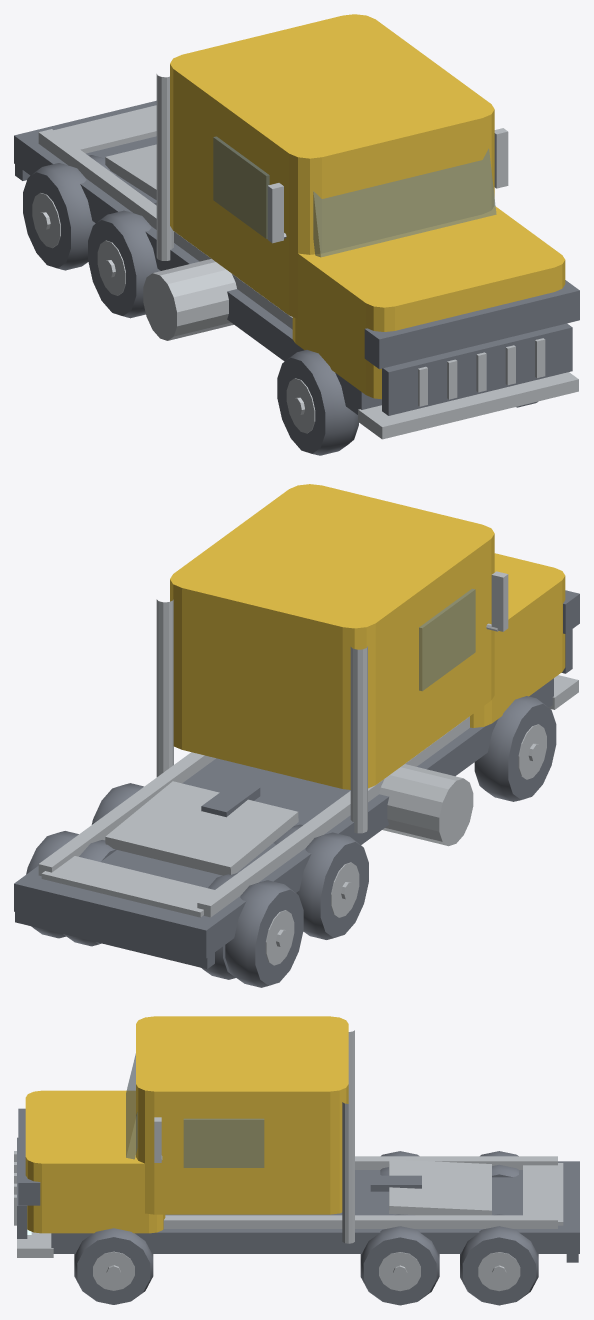
Rendered from ufo-crash-site-and-recovery-facility-recovery-tractor--571779a8__17347.glb.
The picture shows the model from 3 angles, top to bottom: view 1: azimuth 30°, elevation 25°; view 2: azimuth 150°, elevation 25°; view 3: azimuth 270°, elevation 25°; orthographic projection. The views are drawn at different scales.
Parts seen in each view (by area): view 1: recovery-tractor-unit, wheel-front-left (×2), wheel-rear-left (×2), wheel-mid-left (×2); view 2: recovery-tractor-unit, wheel-rear-left (×3), wheel-front-left (×2), wheel-mid-left (×2), wheel-rear-right (×2), wheel-mid-right; view 3: recovery-tractor-unit, wheel-mid-right (×2), wheel-rear-right (×2), wheel-front-right (×2).
Part boxes in pixels (left/top/right/bottom): recovery-tractor-unit: left=14, top=14, right=579, bottom=439; wheel-front-left (×2): left=277, top=350, right=358, bottom=455; wheel-rear-left (×2): left=23, top=163, right=95, bottom=270; wheel-mid-left (×2): left=88, top=210, right=160, bottom=318; recovery-tractor-unit: left=14, top=484, right=579, bottom=968; wheel-rear-left (×3): left=201, top=873, right=303, bottom=987; wheel-front-left (×2): left=474, top=696, right=556, bottom=801; wheel-mid-left (×2): left=296, top=832, right=368, bottom=939; wheel-rear-right (×2): left=26, top=831, right=116, bottom=946; wheel-mid-right: left=91, top=783, right=143, bottom=824; recovery-tractor-unit: left=14, top=1016, right=579, bottom=1262; wheel-mid-right (×2): left=360, top=1226, right=439, bottom=1305; wheel-rear-right (×2): left=460, top=1226, right=538, bottom=1305; wheel-front-right (×2): left=74, top=1228, right=153, bottom=1304.
Bounding box in the file's own units: 3.21 × 3.17 × 7.71.
